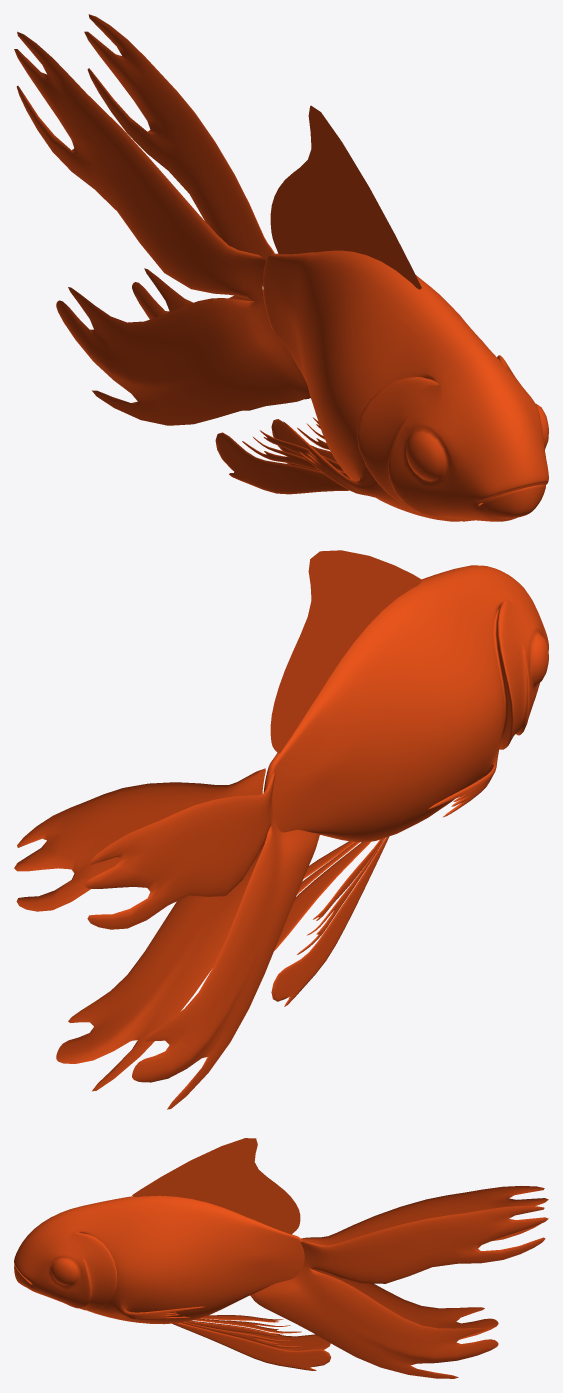
The model's file is fish_3_6_upload.fbx.
3 renders of one model, top to bottom at view 1: azimuth 30°, elevation 25°; view 2: azimuth 150°, elevation 25°; view 3: azimuth 270°, elevation 25°, orthographic. The views are drawn at different scales.
Parts seen in each view (by area): view 1: Cube.006; view 2: Cube.006; view 3: Cube.006.
Boxes of the visible parts, x1,y1,x2,y2 form: Cube.006: [14, 14, 548, 521]; Cube.006: [14, 550, 548, 1109]; Cube.006: [14, 1138, 548, 1378].
Size of the model in its own units: 79.62 by 201 by 423.
